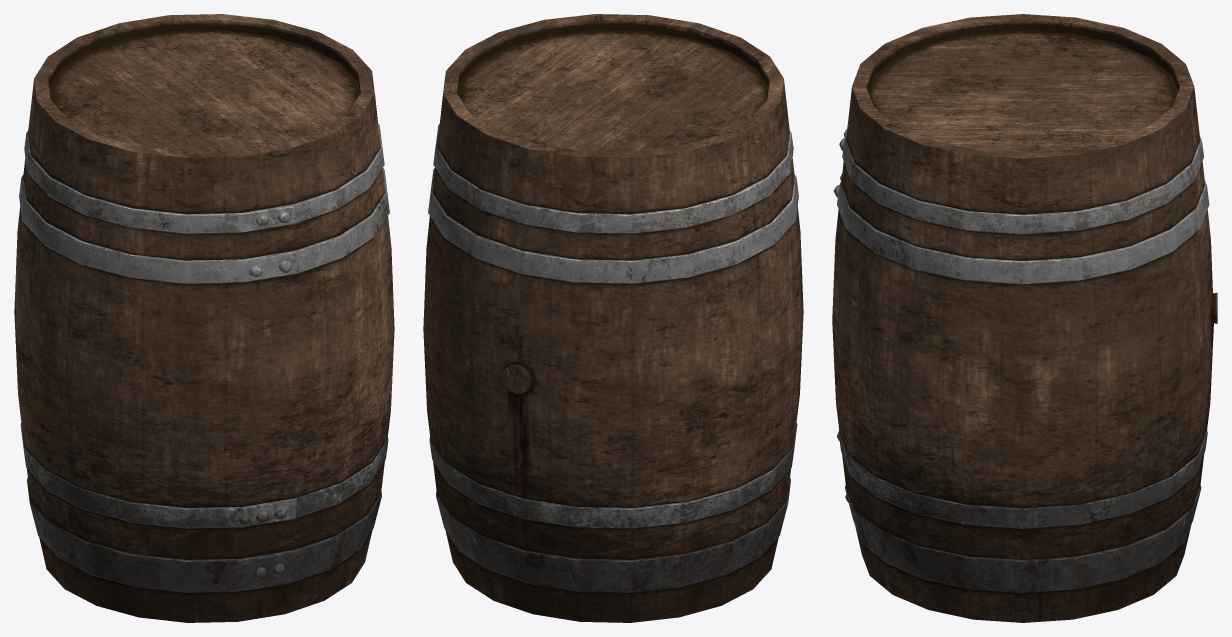
The model's file is barrel.glb.
The picture shows the model from 3 angles, left to right: view 1: azimuth 30°, elevation 25°; view 2: azimuth 150°, elevation 25°; view 3: azimuth 270°, elevation 25°; orthographic projection.
Parts seen in each view (by area): view 1: TonneGood; view 2: TonneGood; view 3: TonneGood.
Part boxes in pixels (bbox=[...]): TonneGood: bbox=[14, 14, 394, 622]; TonneGood: bbox=[423, 14, 803, 622]; TonneGood: bbox=[832, 14, 1217, 622].
Bounding box in the file's own units: 56.66 × 76.71 × 57.2.
Materials: 1 (1 with a texture image).
